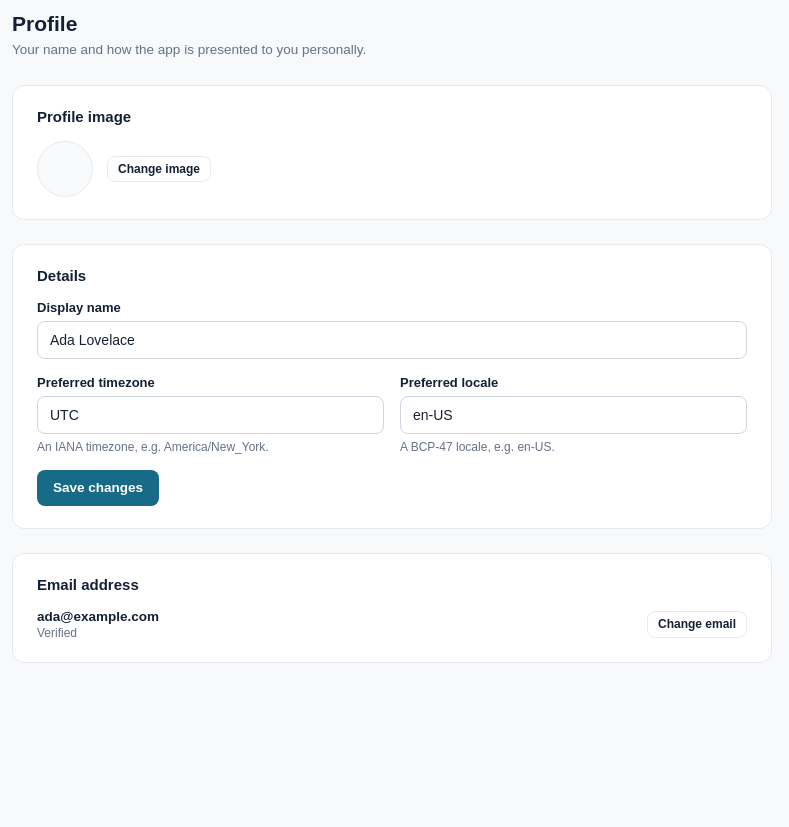
Test: ProfileSettings › starts the email-change flow and requires the current password
Click the button "Change email".
click(697, 625)  # box top-left (647, 611), bottom-right (747, 638)
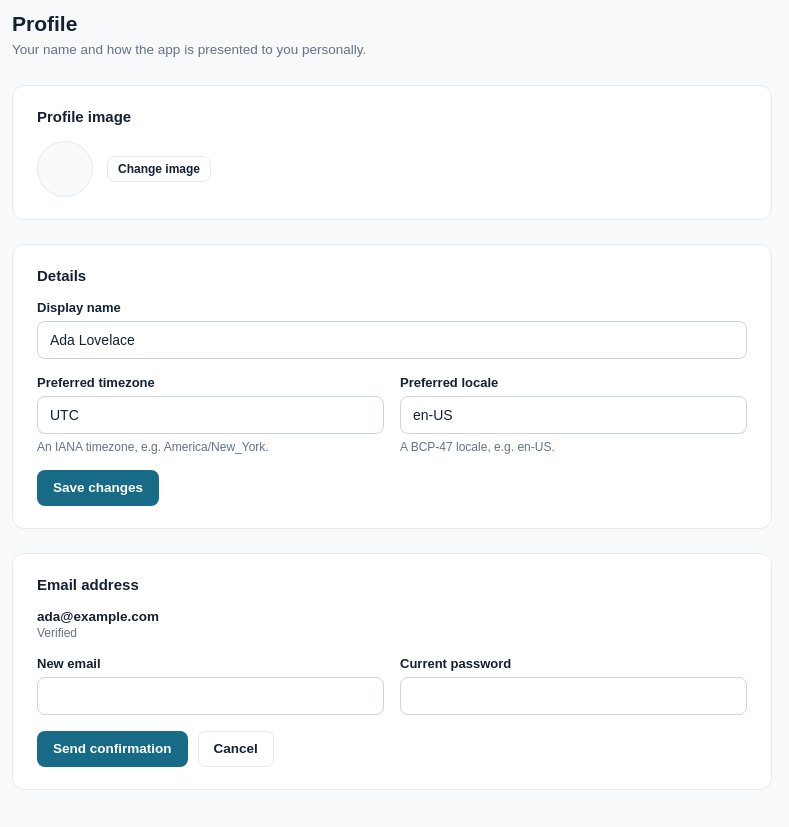
Type "ada-new@example.com" into the field labelled "New email".
click(210, 696); type("ada-new@example.com")  # box top-left (37, 677), bottom-right (384, 715)
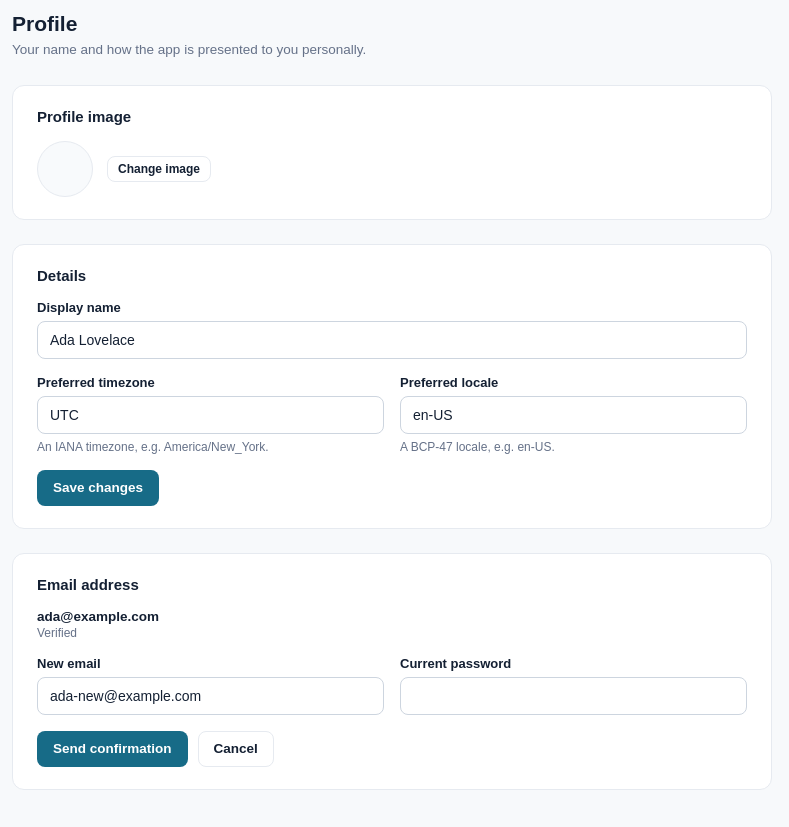
Submit the form "Send confirmation", box top-left (37, 656), bottom-right (747, 767)
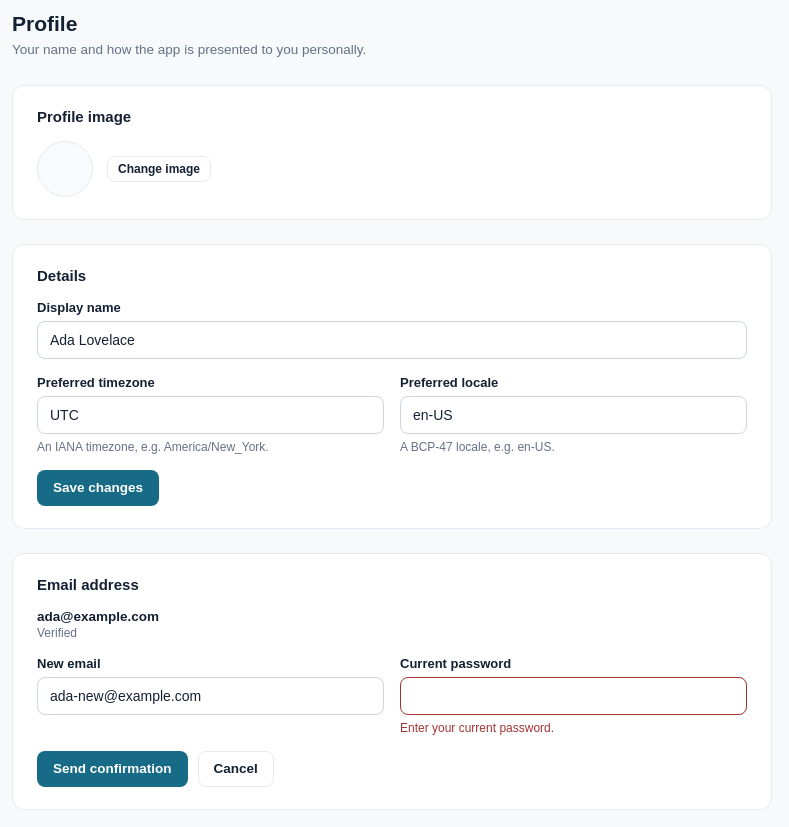
Check: the text "Enter your current password." is shown, box top-left (400, 721), bottom-right (554, 735)
